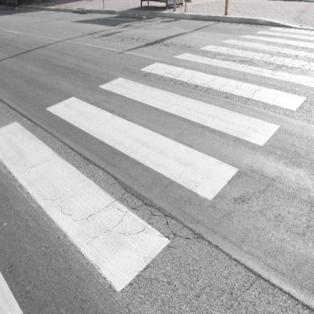Paso de Cebra: (73, 59, 308, 151)
